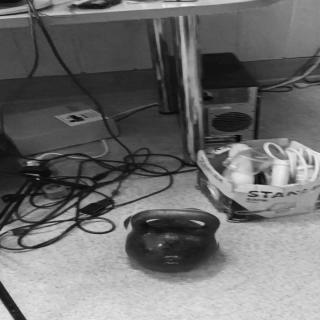kettlebell: (119, 206, 225, 277)
